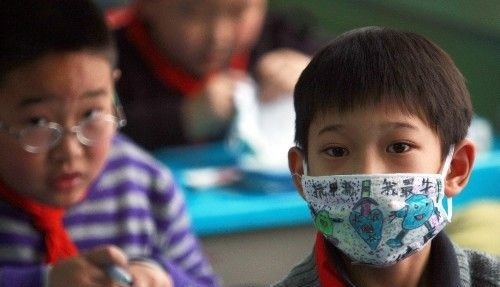face: (1, 51, 126, 206)
face_mask: (300, 91, 449, 260)
